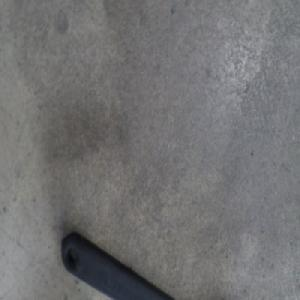AdjustableWrench: (60, 231, 177, 299)
